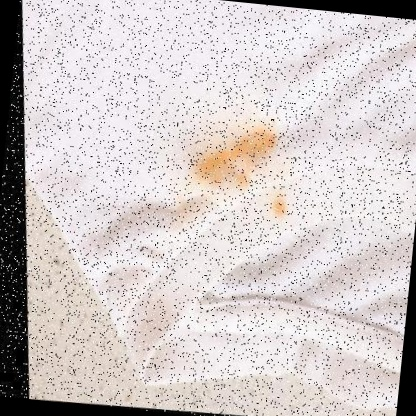kimchi: (191, 126, 279, 198), (256, 189, 291, 222)
